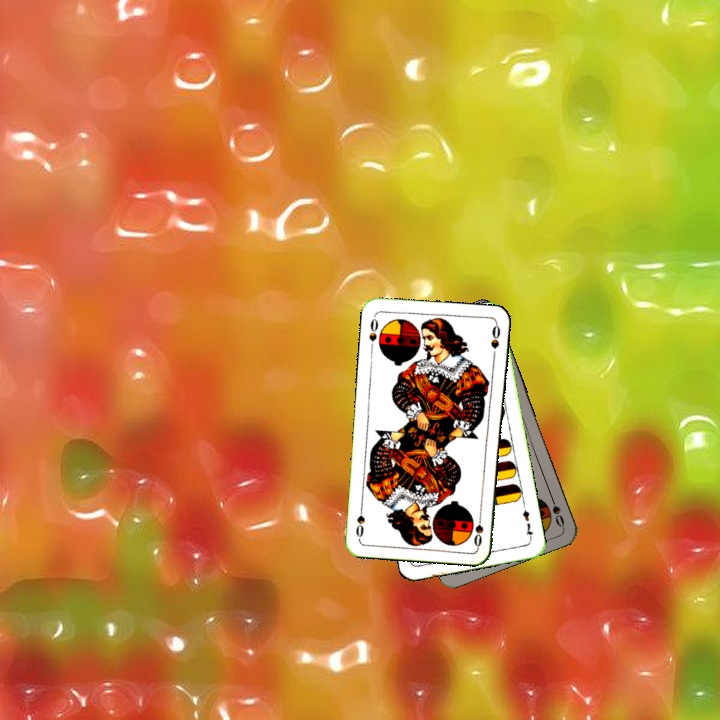E7: (519, 502, 536, 542)
SO: (546, 490, 567, 530), (470, 508, 486, 549), (365, 312, 381, 344)
